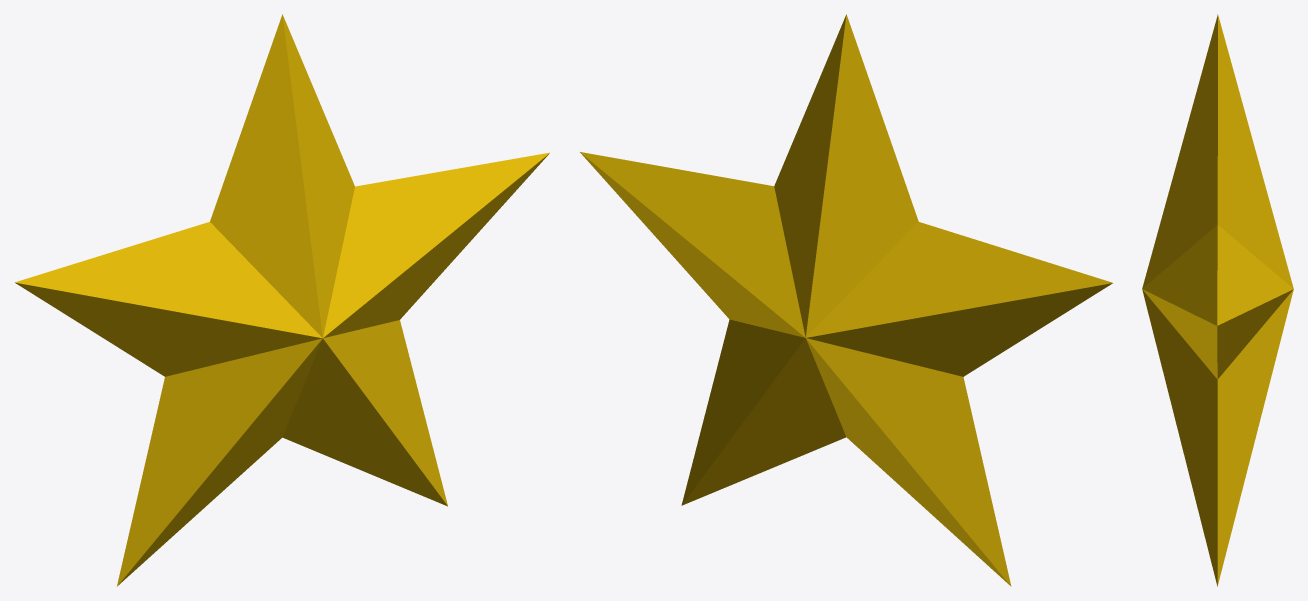
File: star.fbx
The picture shows the model from 3 angles, left to right: view 1: azimuth 30°, elevation 25°; view 2: azimuth 150°, elevation 25°; view 3: azimuth 270°, elevation 25°; orthographic projection. The views are drawn at different scales.
Parts seen in each view (by area): view 1: Circle; view 2: Circle; view 3: Circle.
Part boxes in pixels (left/top/right/bottom): Circle: left=14, top=14, right=549, bottom=586; Circle: left=580, top=14, right=1112, bottom=586; Circle: left=1142, top=14, right=1293, bottom=586.
Bounding box in the file's own units: 190 × 181 × 50.
